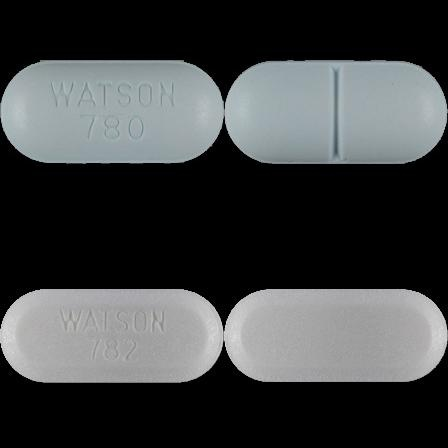0591-0780: (0, 0, 224, 224)
